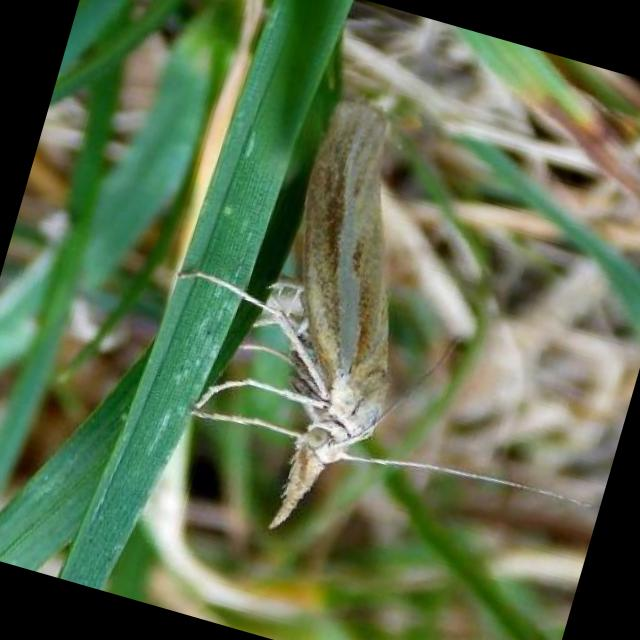stem-borer: (174, 92, 588, 536)
